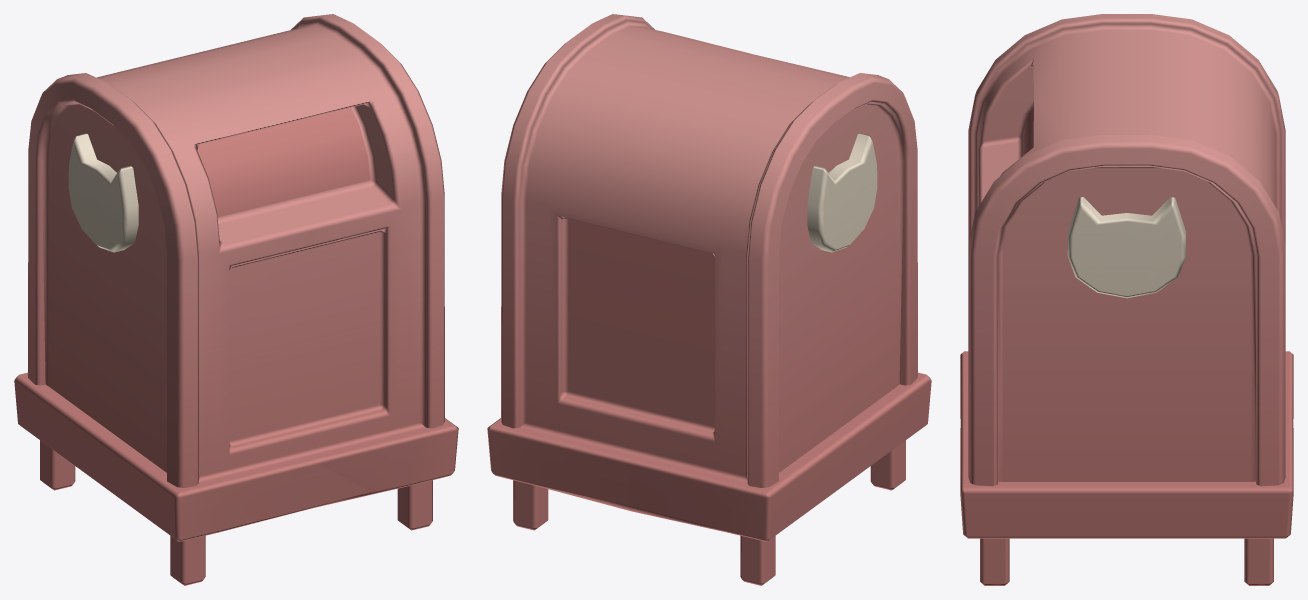
The model's file is Mailbox.fbx.
3 views of the same model, side by side, from view 1: azimuth 30°, elevation 25°; view 2: azimuth 150°, elevation 25°; view 3: azimuth 270°, elevation 25° (orthographic).
Visible parts, largest first — view 1: PostBox; view 2: PostBox; view 3: PostBox.
Boxes of the visible parts, <box> form: PostBox: <box>14,14,458,585</box>; PostBox: <box>487,14,931,585</box>; PostBox: <box>960,14,1293,585</box>.
Size of the model in its own units: 118 by 175 by 118.
